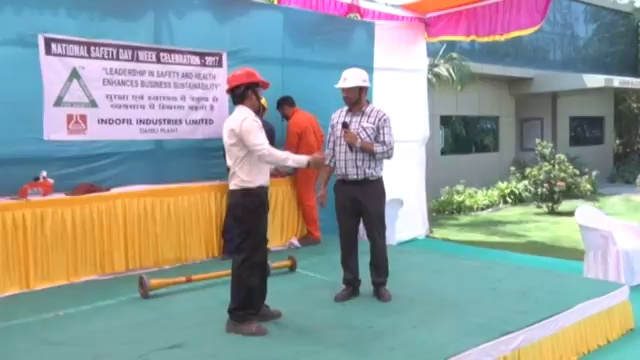helmet: (224, 66, 272, 92), (334, 66, 372, 89)
helmet_off: (272, 92, 300, 122)
helmet_on: (222, 65, 272, 116), (334, 66, 374, 113)
person: (318, 65, 395, 306), (221, 65, 285, 338), (272, 92, 324, 248)
